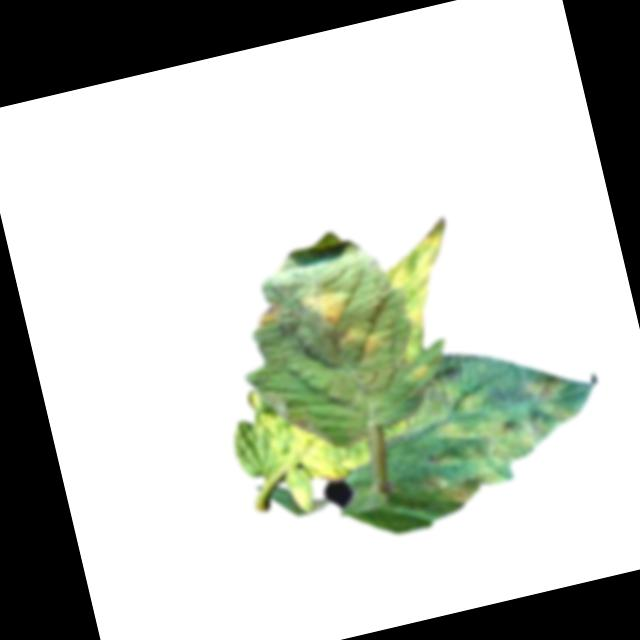Leaf_Mold: (383, 346, 613, 518), (244, 370, 377, 499), (373, 216, 475, 366), (295, 278, 355, 333), (332, 321, 384, 364), (252, 299, 287, 332)
